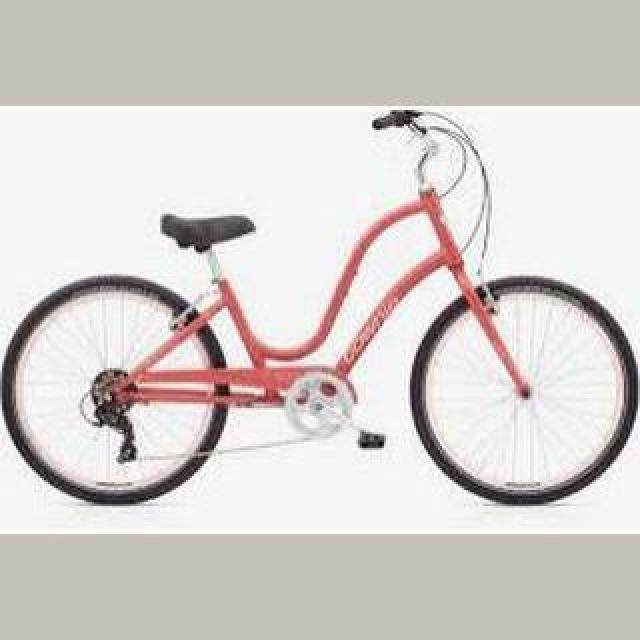Person: (0, 106, 638, 514)
